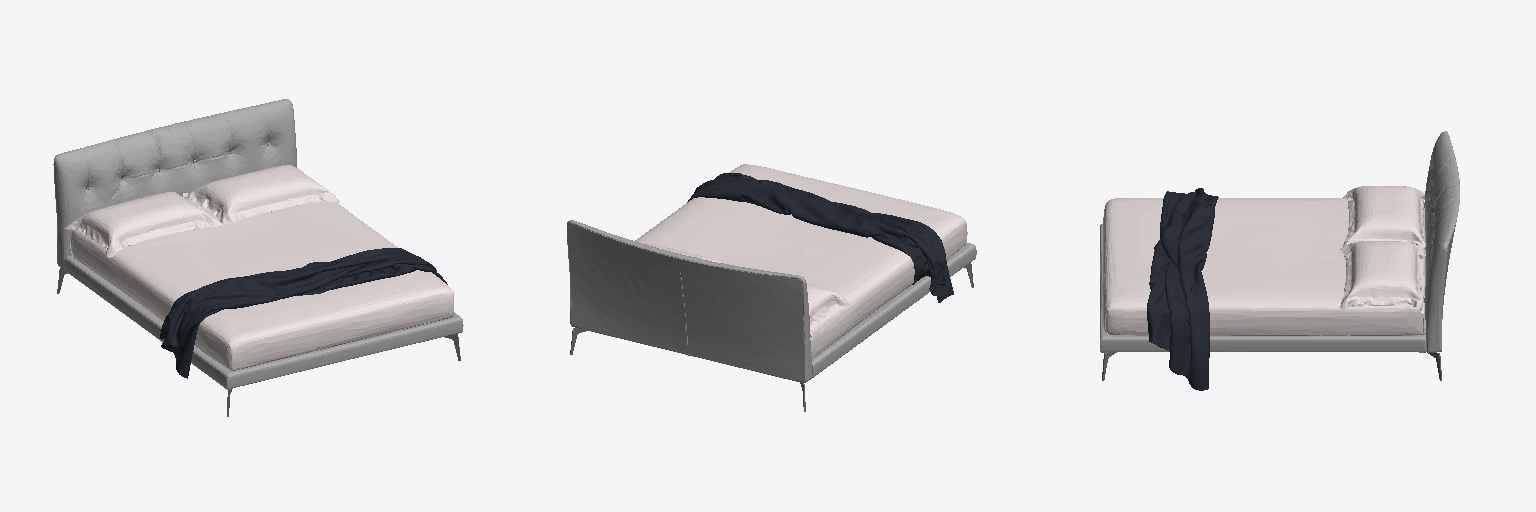
Rendered from arc-double-bed-light-2.obj.
3 renders of one model, left to right at view 1: azimuth 30°, elevation 25°; view 2: azimuth 150°, elevation 25°; view 3: azimuth 270°, elevation 25°, orthographic.
Visible parts, largest first — view 1: alivar_arca_standard_mat_2_2, alivar_arca_standard_mat_2_1, alivar_arca_standard_mat_2_3; view 2: alivar_arca_standard_mat_2_1, alivar_arca_standard_mat_2_2, alivar_arca_standard_mat_2_3; view 3: alivar_arca_standard_mat_2_2, alivar_arca_standard_mat_2_3, alivar_arca_standard_mat_2_1.
Part boxes in pixels (x1,y1,x2,y2): alivar_arca_standard_mat_2_2: (65,165,453,370); alivar_arca_standard_mat_2_1: (53,99,463,389); alivar_arca_standard_mat_2_3: (160,248,447,378); alivar_arca_standard_mat_2_1: (567,220,976,382); alivar_arca_standard_mat_2_2: (635,164,967,357); alivar_arca_standard_mat_2_3: (687,173,953,302); alivar_arca_standard_mat_2_2: (1102,186,1425,335); alivar_arca_standard_mat_2_3: (1147,188,1218,390); alivar_arca_standard_mat_2_1: (1100,131,1459,352).
Bounding box in the file's own units: 1.94 × 0.9211 × 2.2.